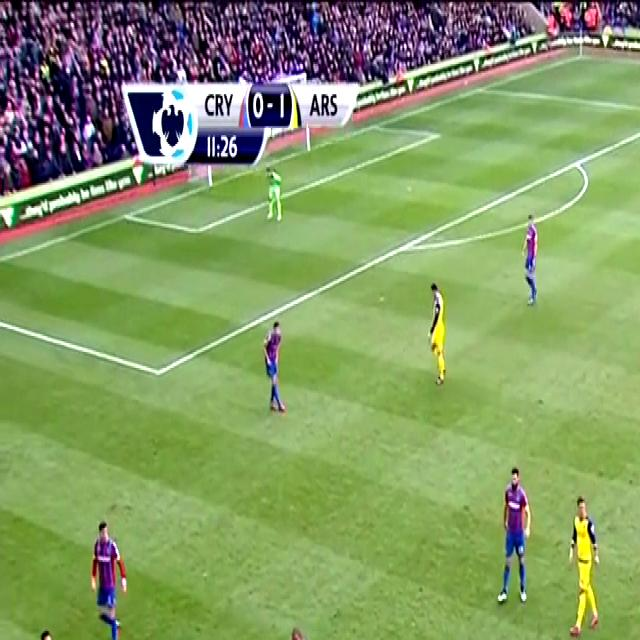goalkeeper: (262, 167, 289, 231)
soccer-player: (489, 462, 546, 616), (559, 489, 613, 640), (82, 510, 141, 640), (417, 276, 461, 392), (253, 313, 299, 420), (517, 213, 552, 316), (268, 620, 342, 640), (20, 624, 86, 640)
